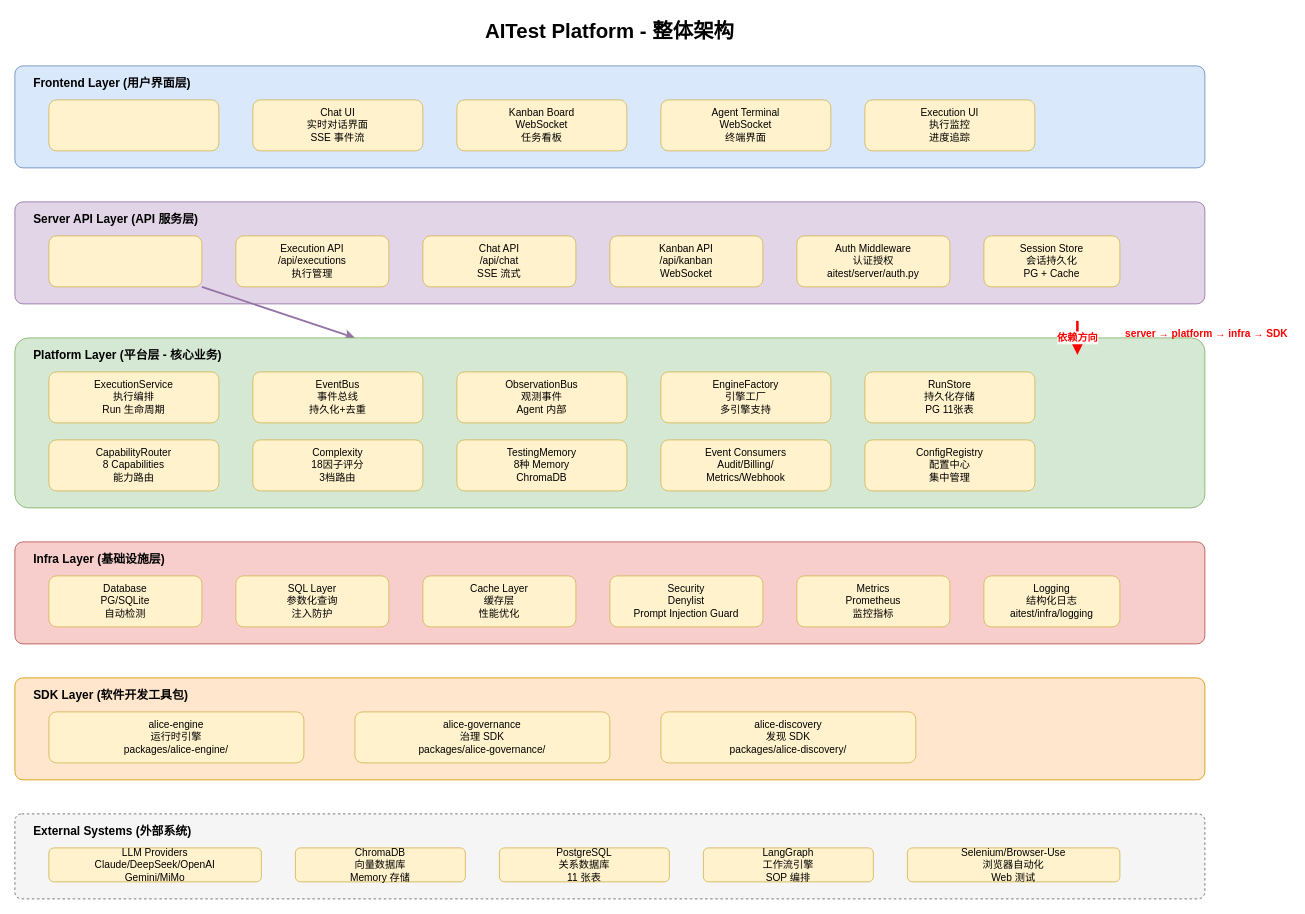
Image size: 1305x914. Some labels were removed from this diagram. Here are the shapes that lost their labels. From the top down, the centre of each, then its label:
At [133,125]: "React 18 App Zustand + SSE aitest/web/src/".
At [125,261]: "FastAPI aitest/server/main.py Lifespan + DI".
